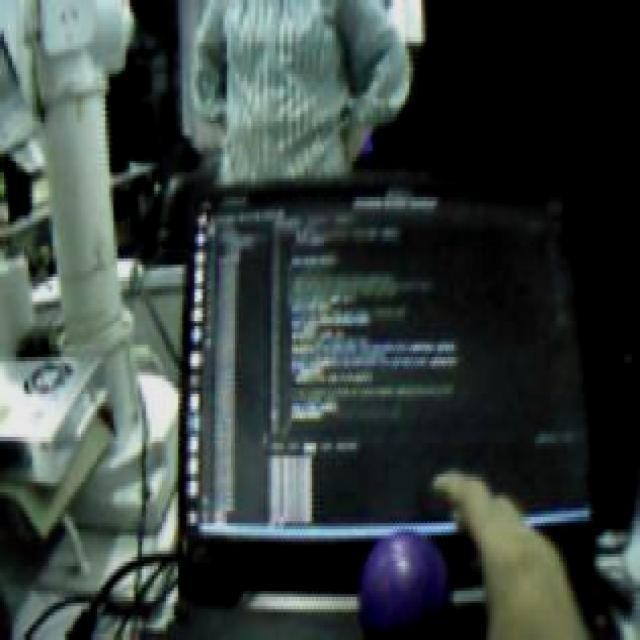BallPurple: (356, 530, 449, 636)
